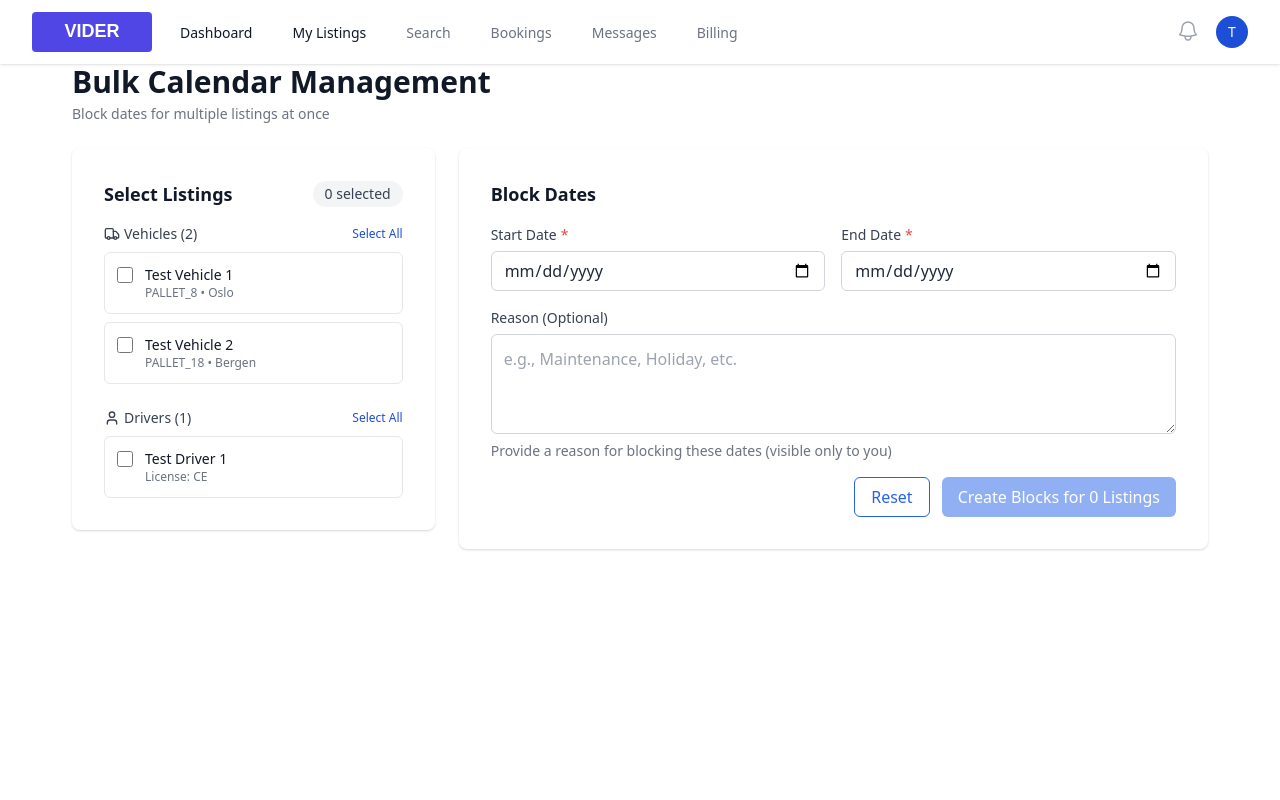
BulkCalendarManagementPage › allows selecting listings
Expected: the text "Test Vehicle 1" is shown, [145,265,233,284]
Click on the first vehicle checkbox
What coordinates should you click on to do the following:
click the checkbox labelled "Test Vehicle 1 PALLET_8 • Oslo"
I would click on:
 (125, 275)
Its box is [117,267,133,283].
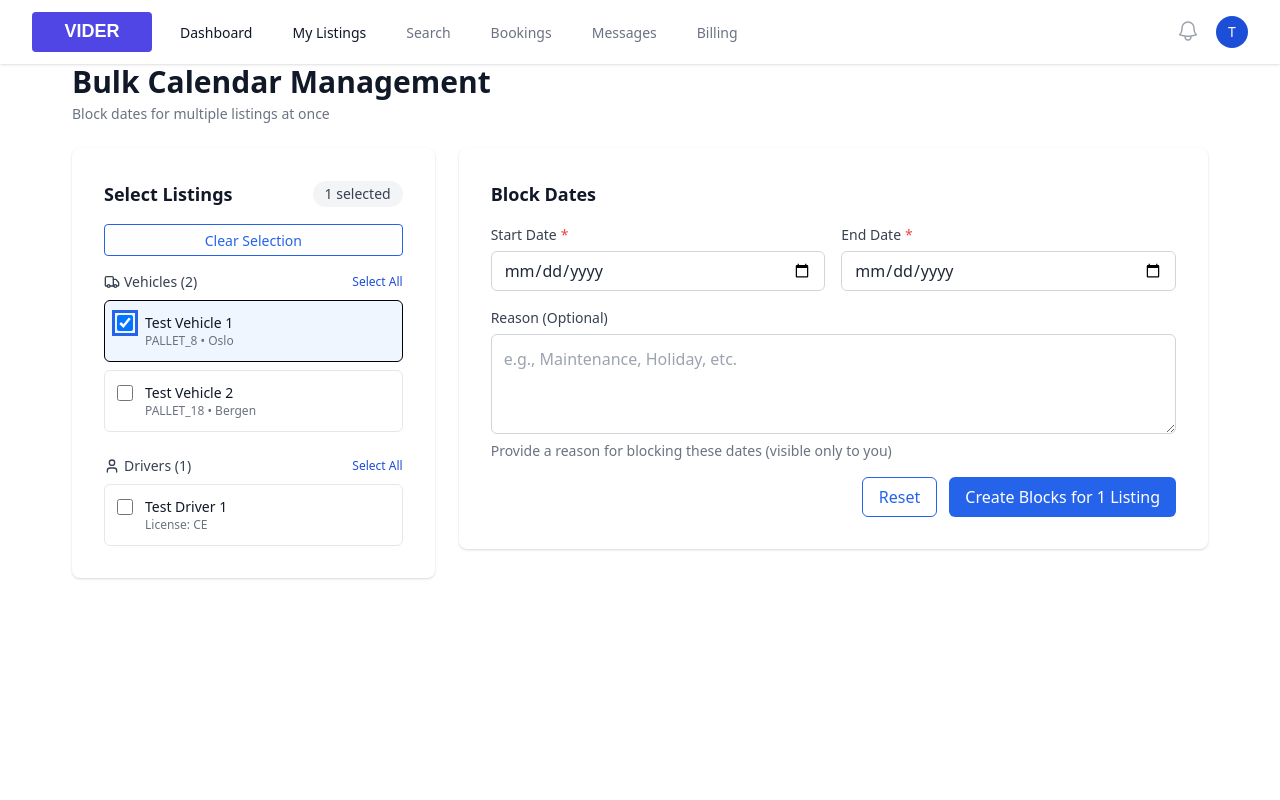
Expected: the text "1 selected" is shown, [313,181,403,207]
